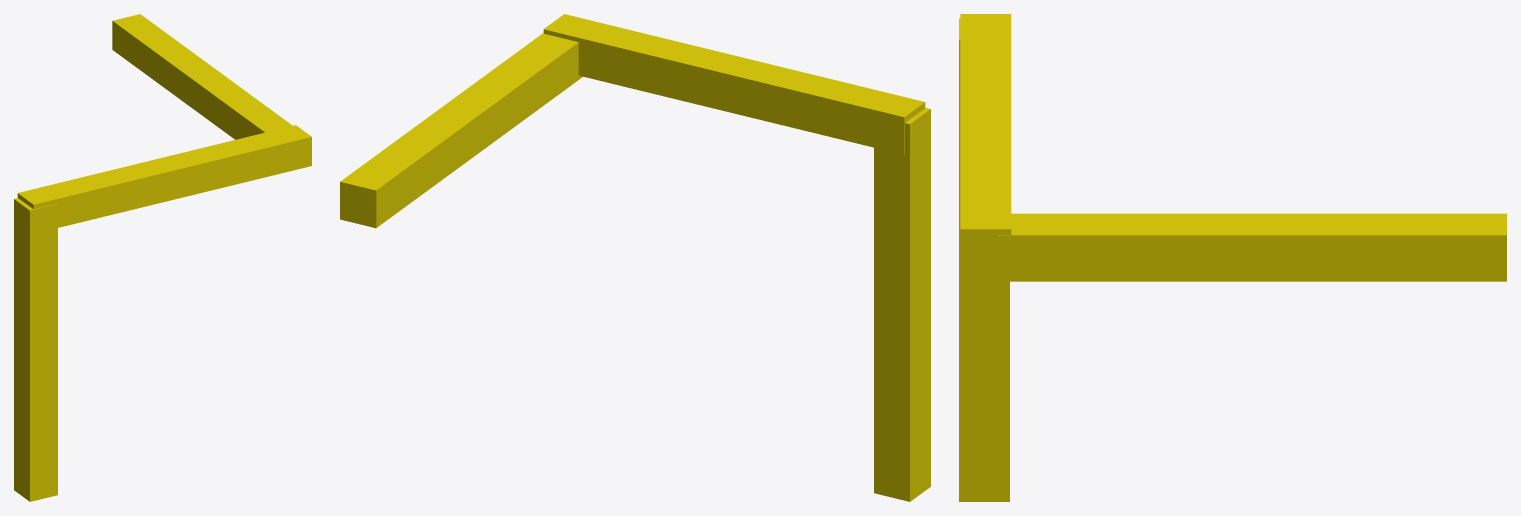
The model's file is yellowWire.glb.
3 renders of one model, left to right at view 1: azimuth 30°, elevation 25°; view 2: azimuth 150°, elevation 25°; view 3: azimuth 270°, elevation 25°, orthographic. The views are drawn at different scales.
Parts seen in each view (by area): view 1: Cube.006; view 2: Cube.006; view 3: Cube.006.
Boxes of the visible parts, x1,y1,x2,y2 form: Cube.006: (14, 14, 311, 501); Cube.006: (340, 14, 930, 501); Cube.006: (959, 14, 1506, 501).
Bounding box in the file's own units: 0.1016 × 0.1016 × 0.1075.
